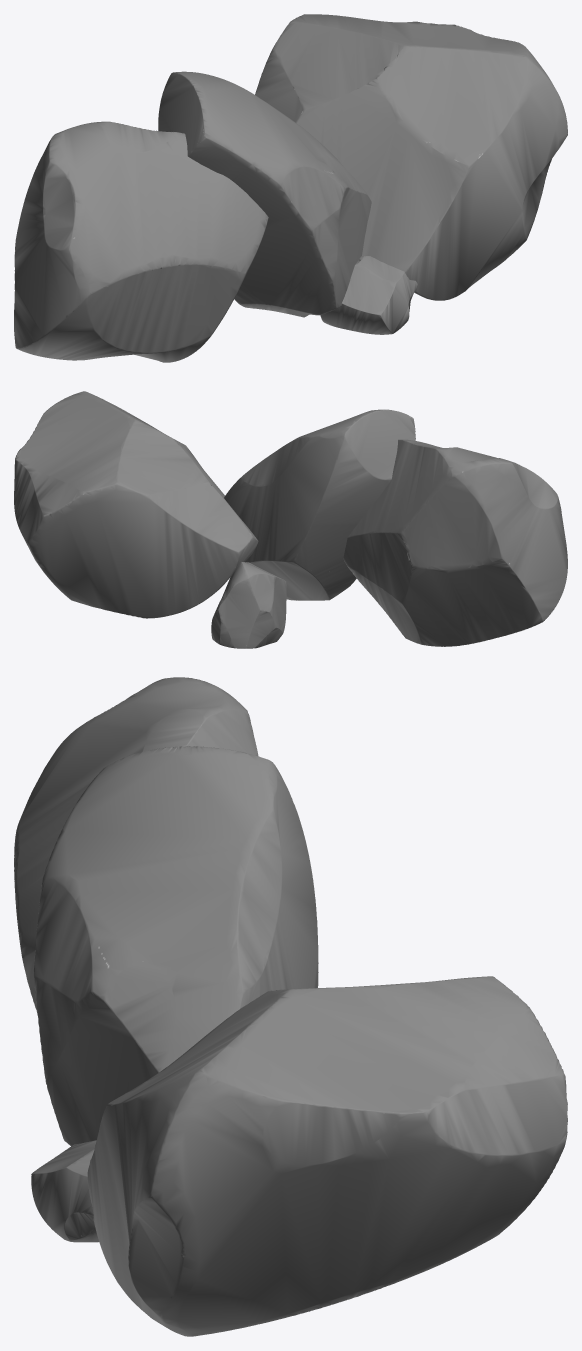
File: stoneblock.fbx
The picture shows the model from 3 angles, top to bottom: view 1: azimuth 30°, elevation 25°; view 2: azimuth 150°, elevation 25°; view 3: azimuth 270°, elevation 25°; orthographic projection. The views are drawn at different scales.
Visible parts, largest first — view 1: Stone1_LOD0; view 2: Stone1_LOD0; view 3: Stone1_LOD0.
Part boxes in pixels (x1,y1,x2,y2): Stone1_LOD0: (14,14,567,362); Stone1_LOD0: (14,391,567,648); Stone1_LOD0: (14,677,567,1336).
Size of what is drawn, in the model's own units: 742 by 335 by 431.
